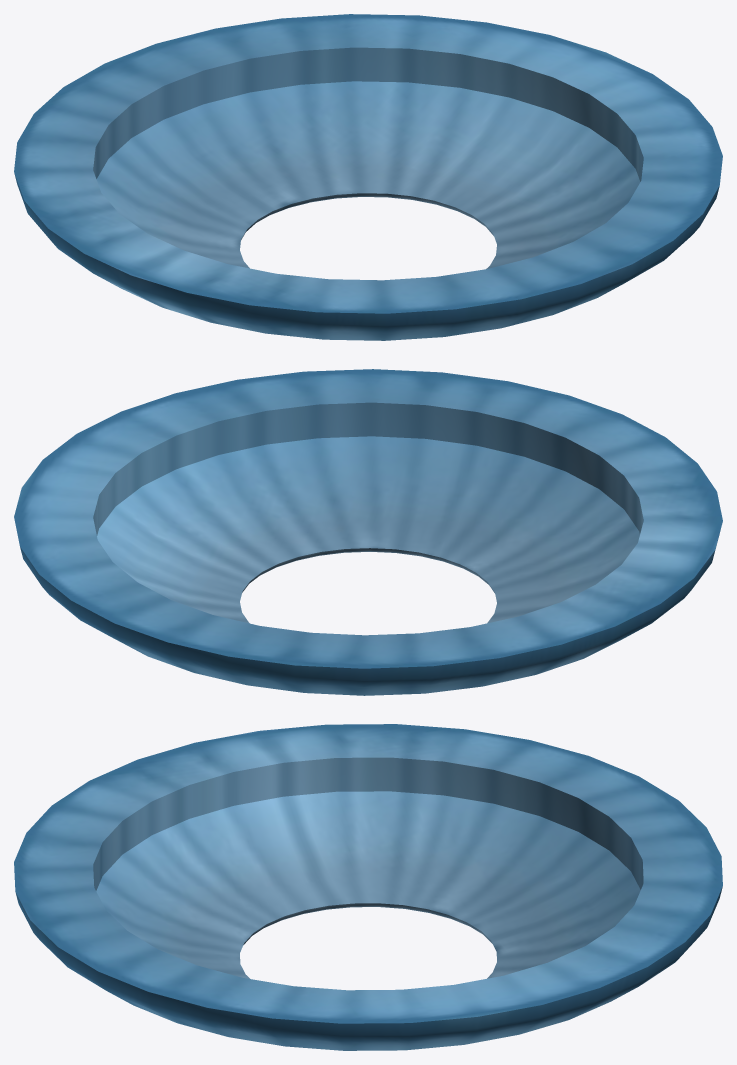
The model's file is SighCorn.obj.
The picture shows the model from 3 angles, top to bottom: view 1: azimuth 30°, elevation 25°; view 2: azimuth 150°, elevation 25°; view 3: azimuth 270°, elevation 25°; orthographic projection.
Visible parts, largest first — view 1: SighCorn; view 2: SighCorn; view 3: SighCorn.
Boxes of the visible parts, <box> form: SighCorn: <box>14,14,722,340</box>; SighCorn: <box>14,369,722,695</box>; SighCorn: <box>14,724,722,1050</box>.
Size of the model in its own units: 45.56 by 6.39 by 45.56.
